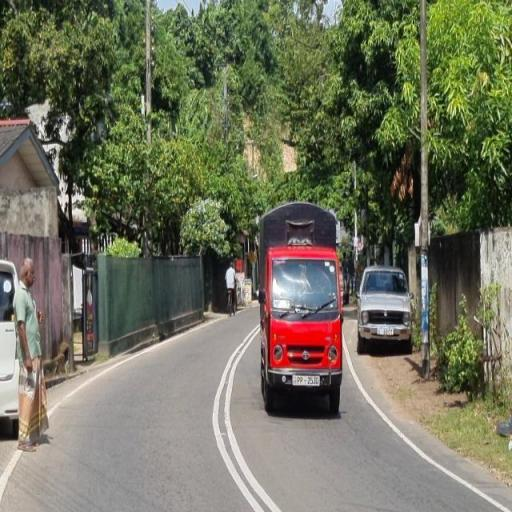double_white_line: (346, 360, 510, 510), (210, 322, 272, 510)
